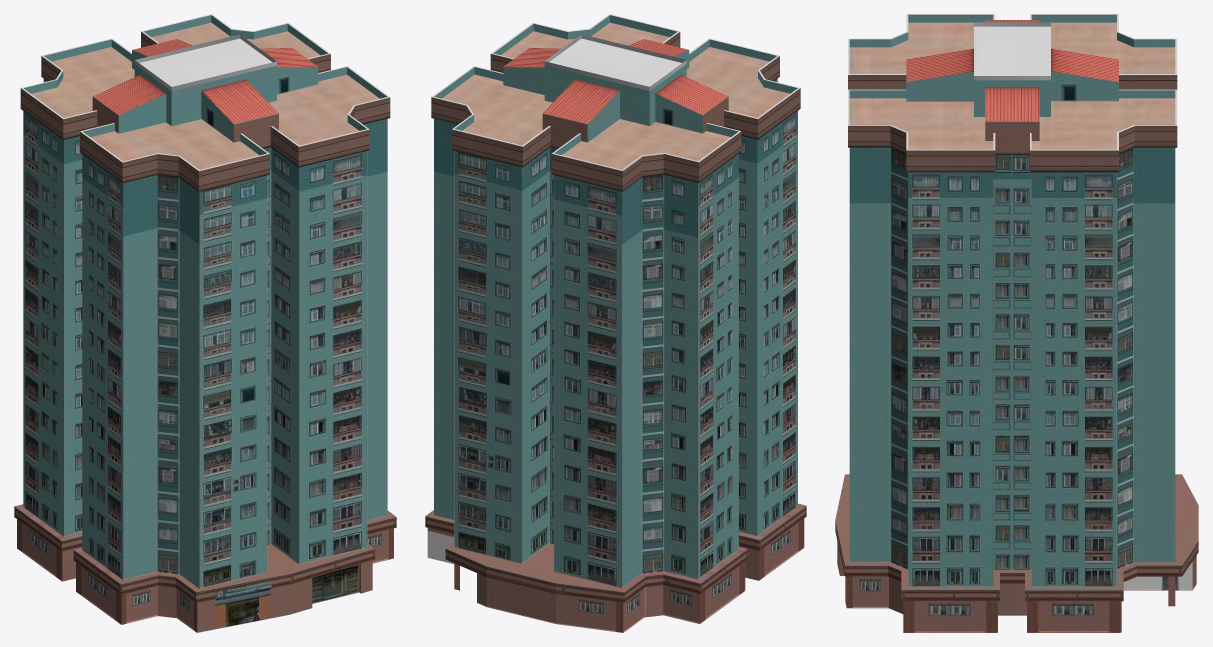
3 views of the same model, side by side, from view 1: azimuth 30°, elevation 25°; view 2: azimuth 150°, elevation 25°; view 3: azimuth 270°, elevation 25° (orthographic). The views are drawn at different scales.
Visible parts, largest first — view 1: HN481___Toa_nha_N2C.001; view 2: HN481___Toa_nha_N2C.001; view 3: HN481___Toa_nha_N2C.001.
Part boxes in pixels (left/top/right/bottom): HN481___Toa_nha_N2C.001: left=14, top=14, right=396, bottom=632; HN481___Toa_nha_N2C.001: left=425, top=14, right=806, bottom=632; HN481___Toa_nha_N2C.001: left=835, top=14, right=1198, bottom=632.
Size of the model in its own units: 34.49 by 58.88 by 37.68.
Materials: 1 (1 with a texture image).
